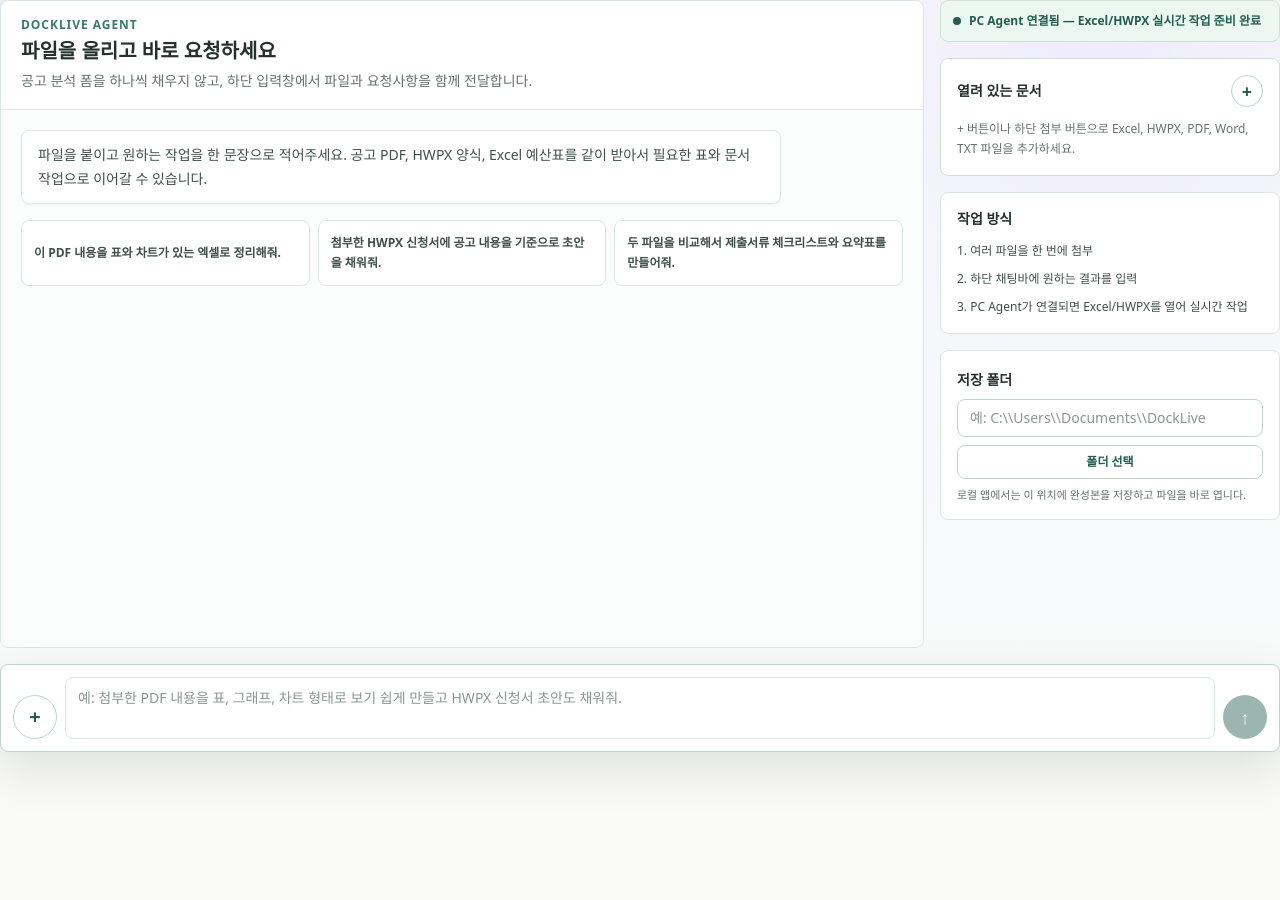
Test: NewProjectPage inline agent entry › selects an output folder through the running local agent when the desktop bridge is unavailable
Click the button with test id "inline-agent-output-picker": click(1110, 462) [957,445,1263,479]
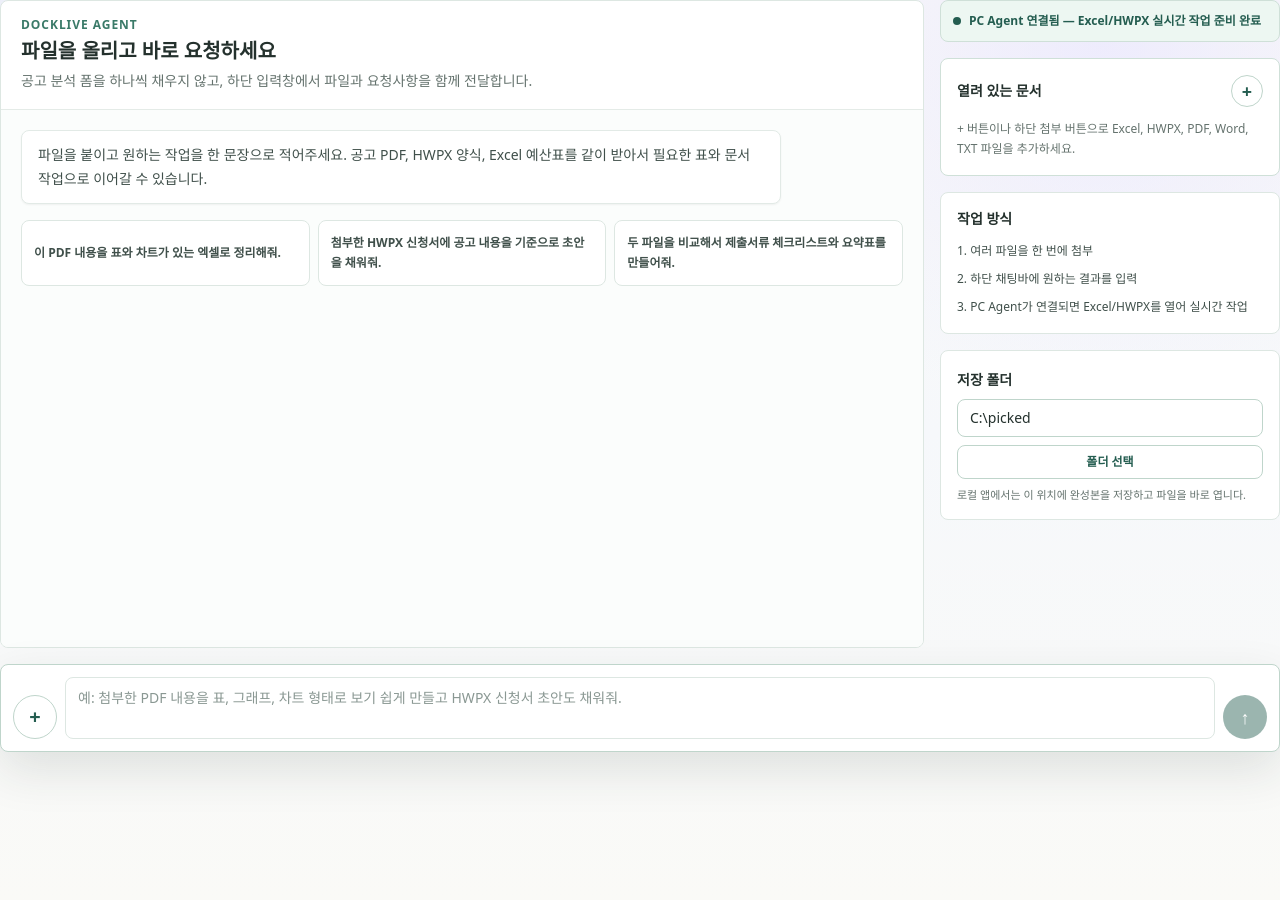
Expected: the field with test id "inline-agent-output-dir" holds "C:\\picked", [957,399,1263,437]
